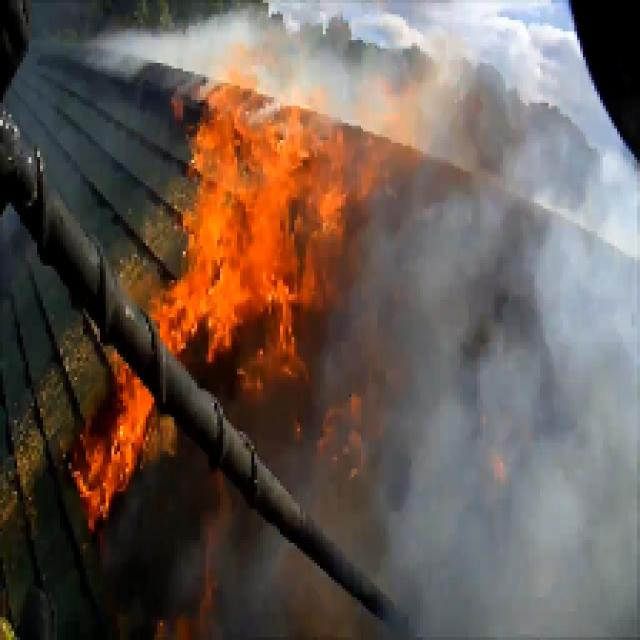fire: (188, 93, 330, 367), (76, 365, 149, 518)
smoke: (423, 183, 640, 640)
